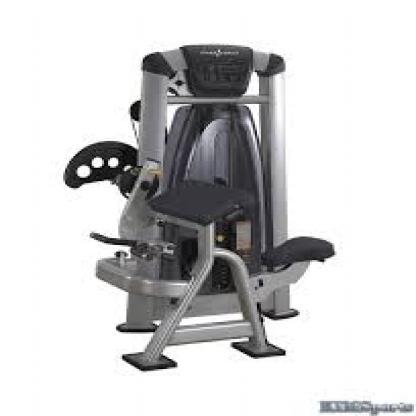arm curl machine: (62, 44, 336, 375)
